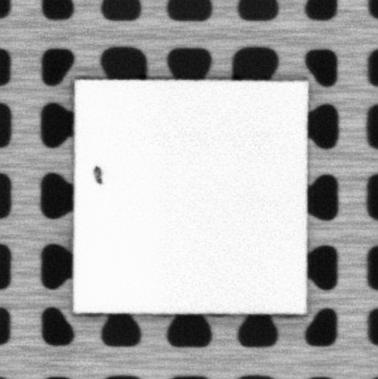DIE_INK: (90, 163, 105, 184)
